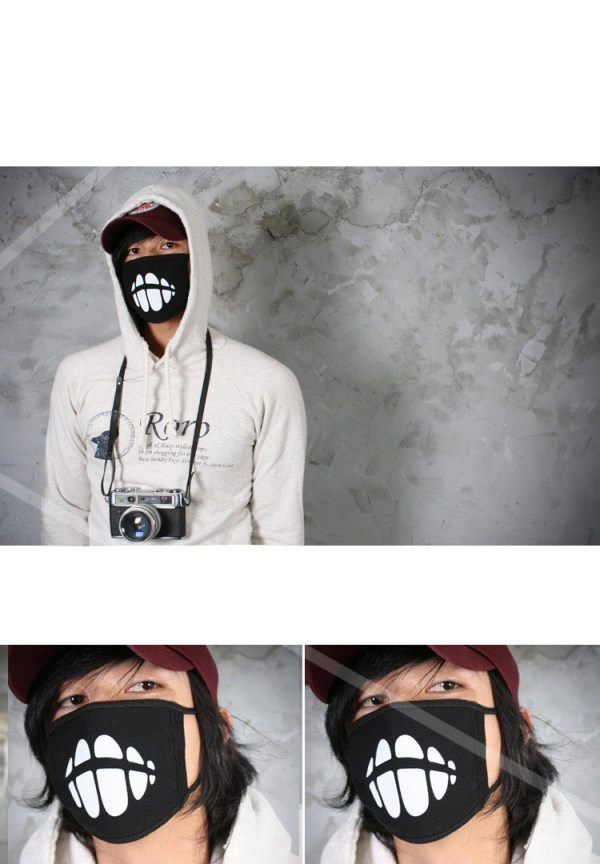face_mask: (341, 648, 504, 844), (44, 643, 187, 845), (119, 216, 187, 320)
